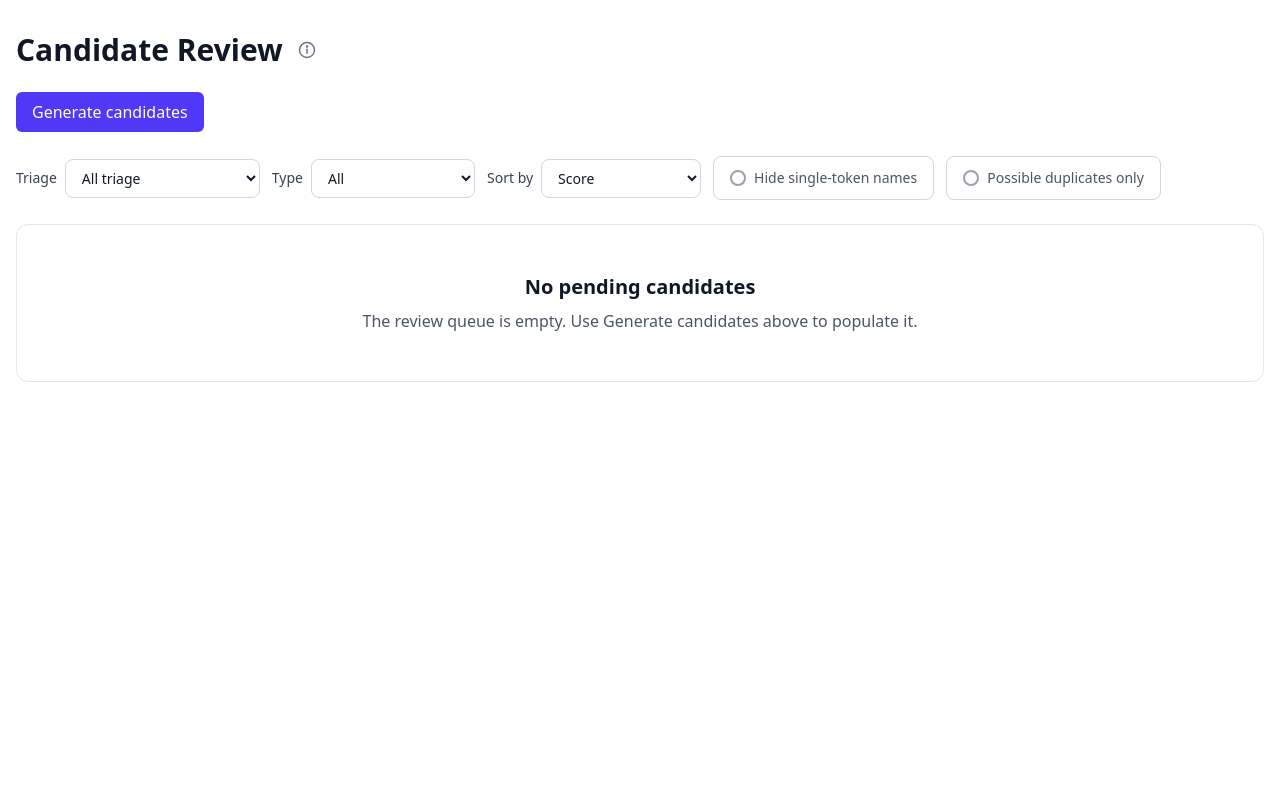
Test case: Candidates terms explainer › is collapsed by default and opens with definitions
This screenshot has width=1280, height=800.
Click the button named "What do these terms mean?": (307,50) top-left (291, 34), bottom-right (323, 66)
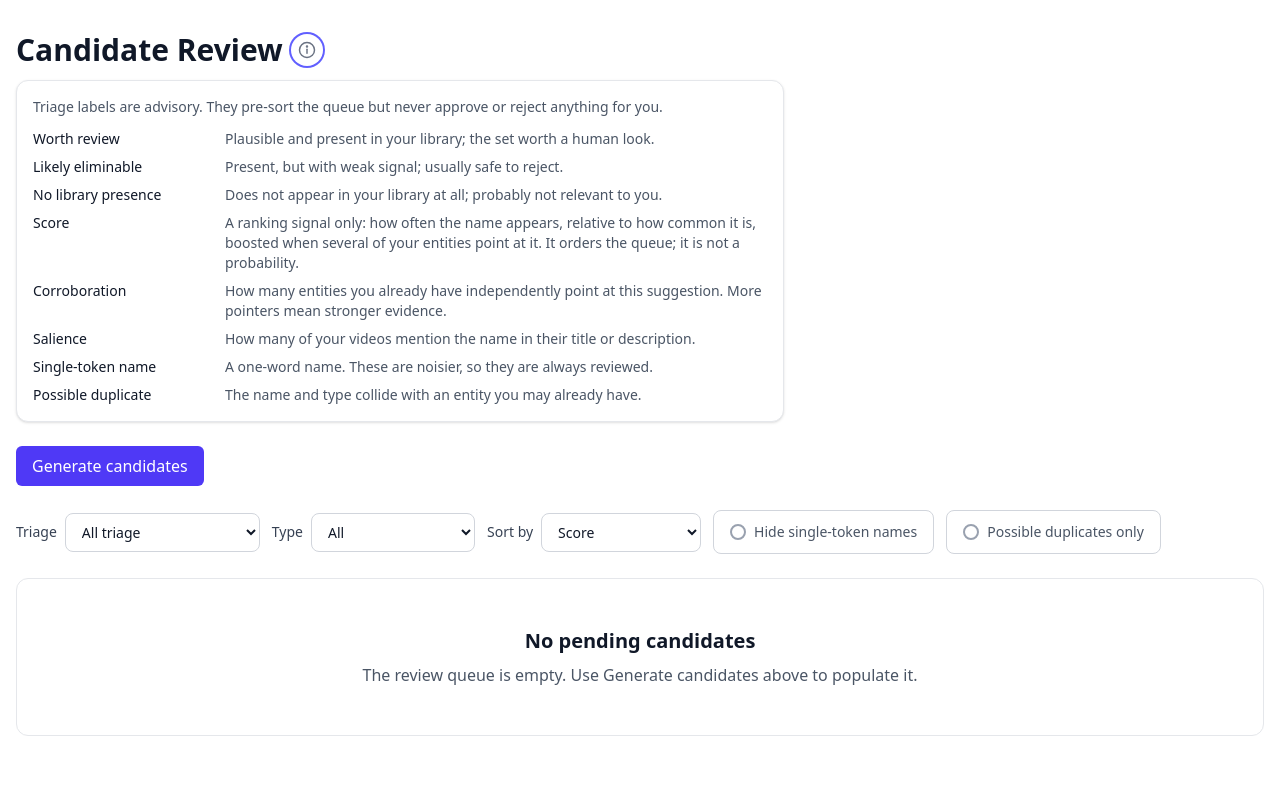
Now the button named "What do these terms mean?" is expanded, box top-left (291, 34), bottom-right (323, 66)
Now the element named "Candidate review terms" is shown, box top-left (16, 80), bottom-right (784, 422)
Now the text "Corroboration" is shown, box top-left (33, 281), bottom-right (126, 300)
